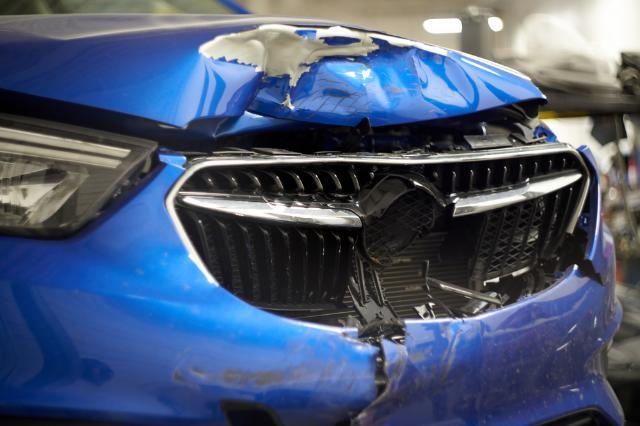crack: (337, 328, 391, 426), (573, 258, 606, 289)
dent: (194, 18, 477, 136)
no part: (349, 173, 474, 320)
scratch: (174, 358, 357, 396)
